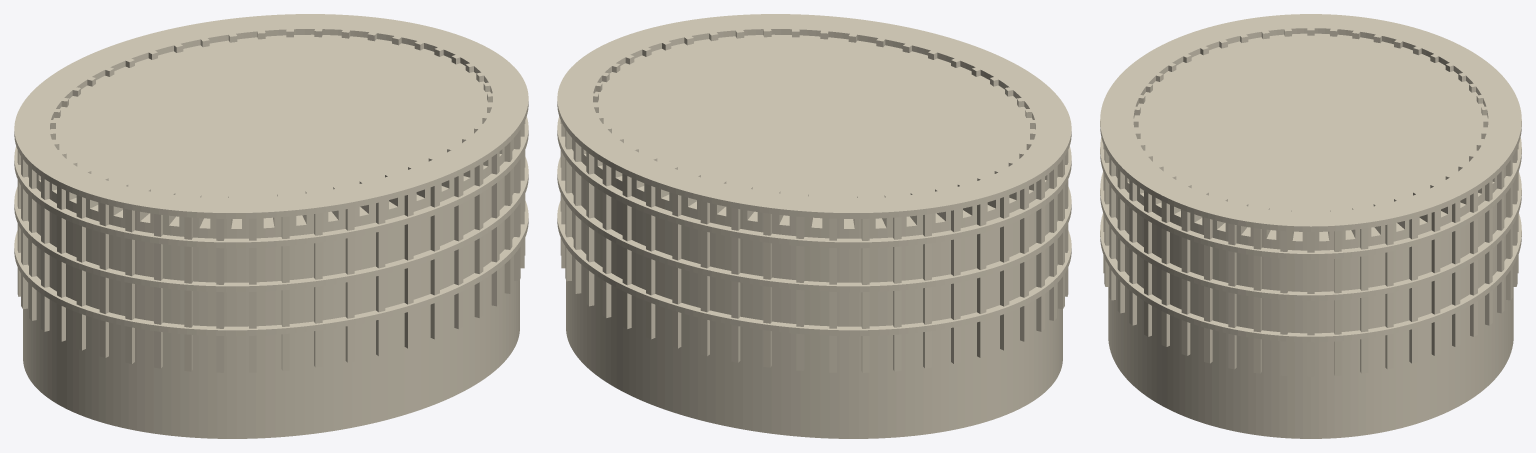
File: colosseum.glb
3 renders of one model, left to right at view 1: azimuth 30°, elevation 25°; view 2: azimuth 150°, elevation 25°; view 3: azimuth 270°, elevation 25°, orthographic. The views are drawn at different scales.
Visible parts, largest first — view 1: Colosseum; view 2: Colosseum; view 3: Colosseum.
Boxes of the visible parts, x1,y1,x2,y2 form: Colosseum: (14,14,528,438); Colosseum: (557,14,1071,438); Colosseum: (1100,14,1521,438).
Bounding box in the file's own units: 99.2 × 47 × 83.2.
